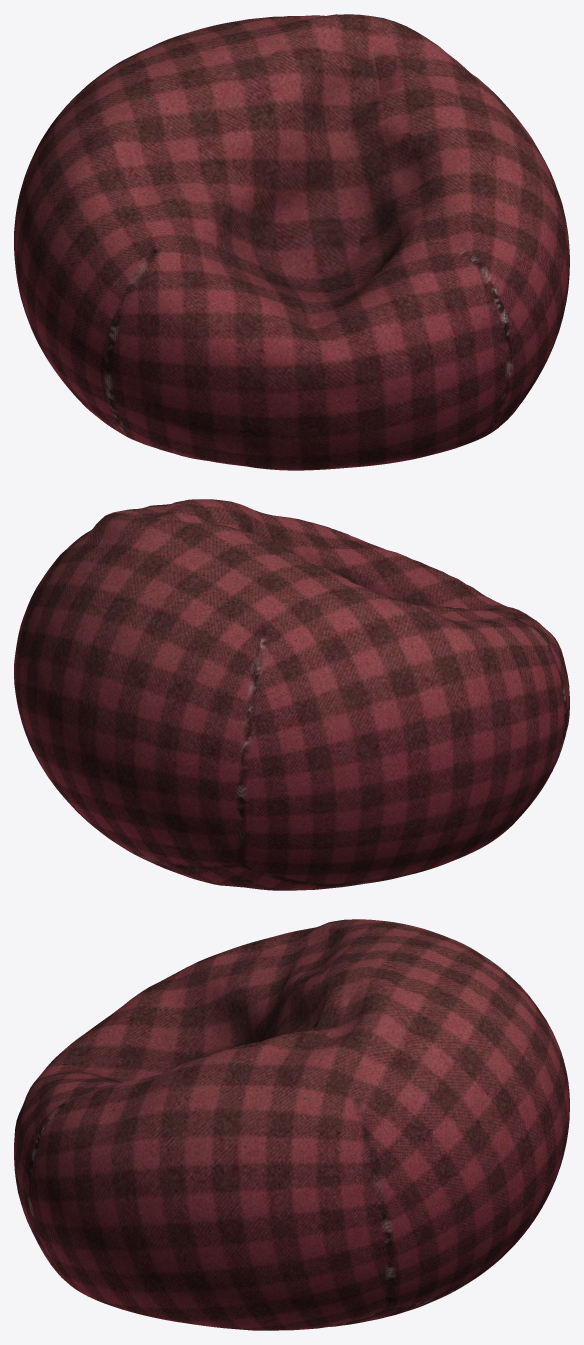
Rendered from bean_bag.glb.
3 views of the same model, one above another, from view 1: azimuth 30°, elevation 25°; view 2: azimuth 150°, elevation 25°; view 3: azimuth 270°, elevation 25° (orthographic).
Parts seen in each view (by area): view 1: Cube; view 2: Cube; view 3: Cube.
Boxes of the visible parts, left/top/right/bottom form: Cube: left=14, top=14, right=569, bottom=470; Cube: left=14, top=499, right=569, bottom=890; Cube: left=14, top=919, right=569, bottom=1330.
Bounding box in the file's own units: 0.851 × 0.5089 × 0.8569.
1 material, 1 textured.
